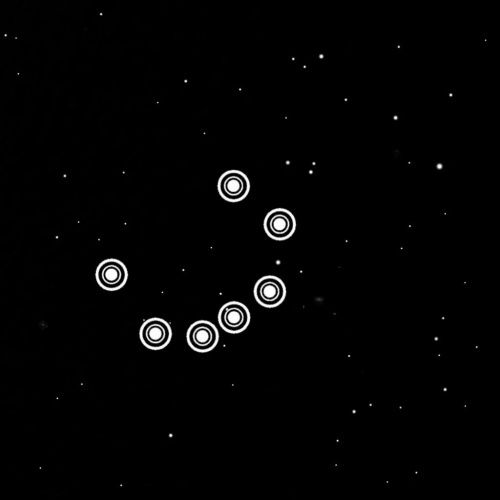corona_borealis: (88, 162, 299, 356)
